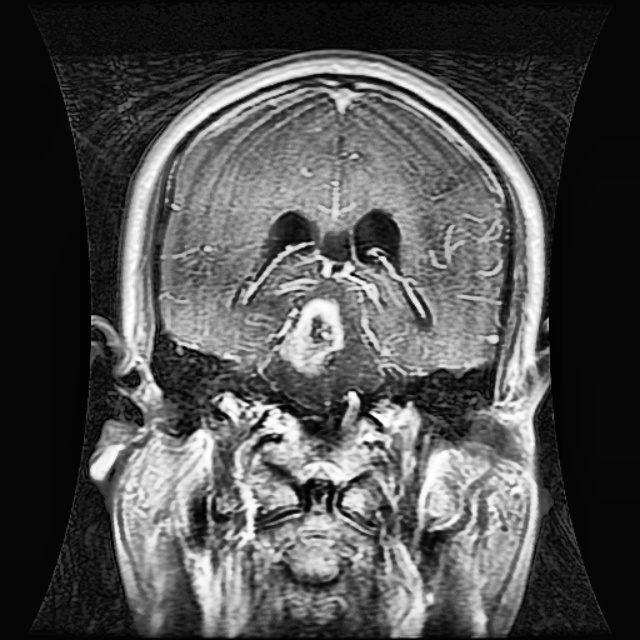Meningioma: (270, 288, 345, 382)
